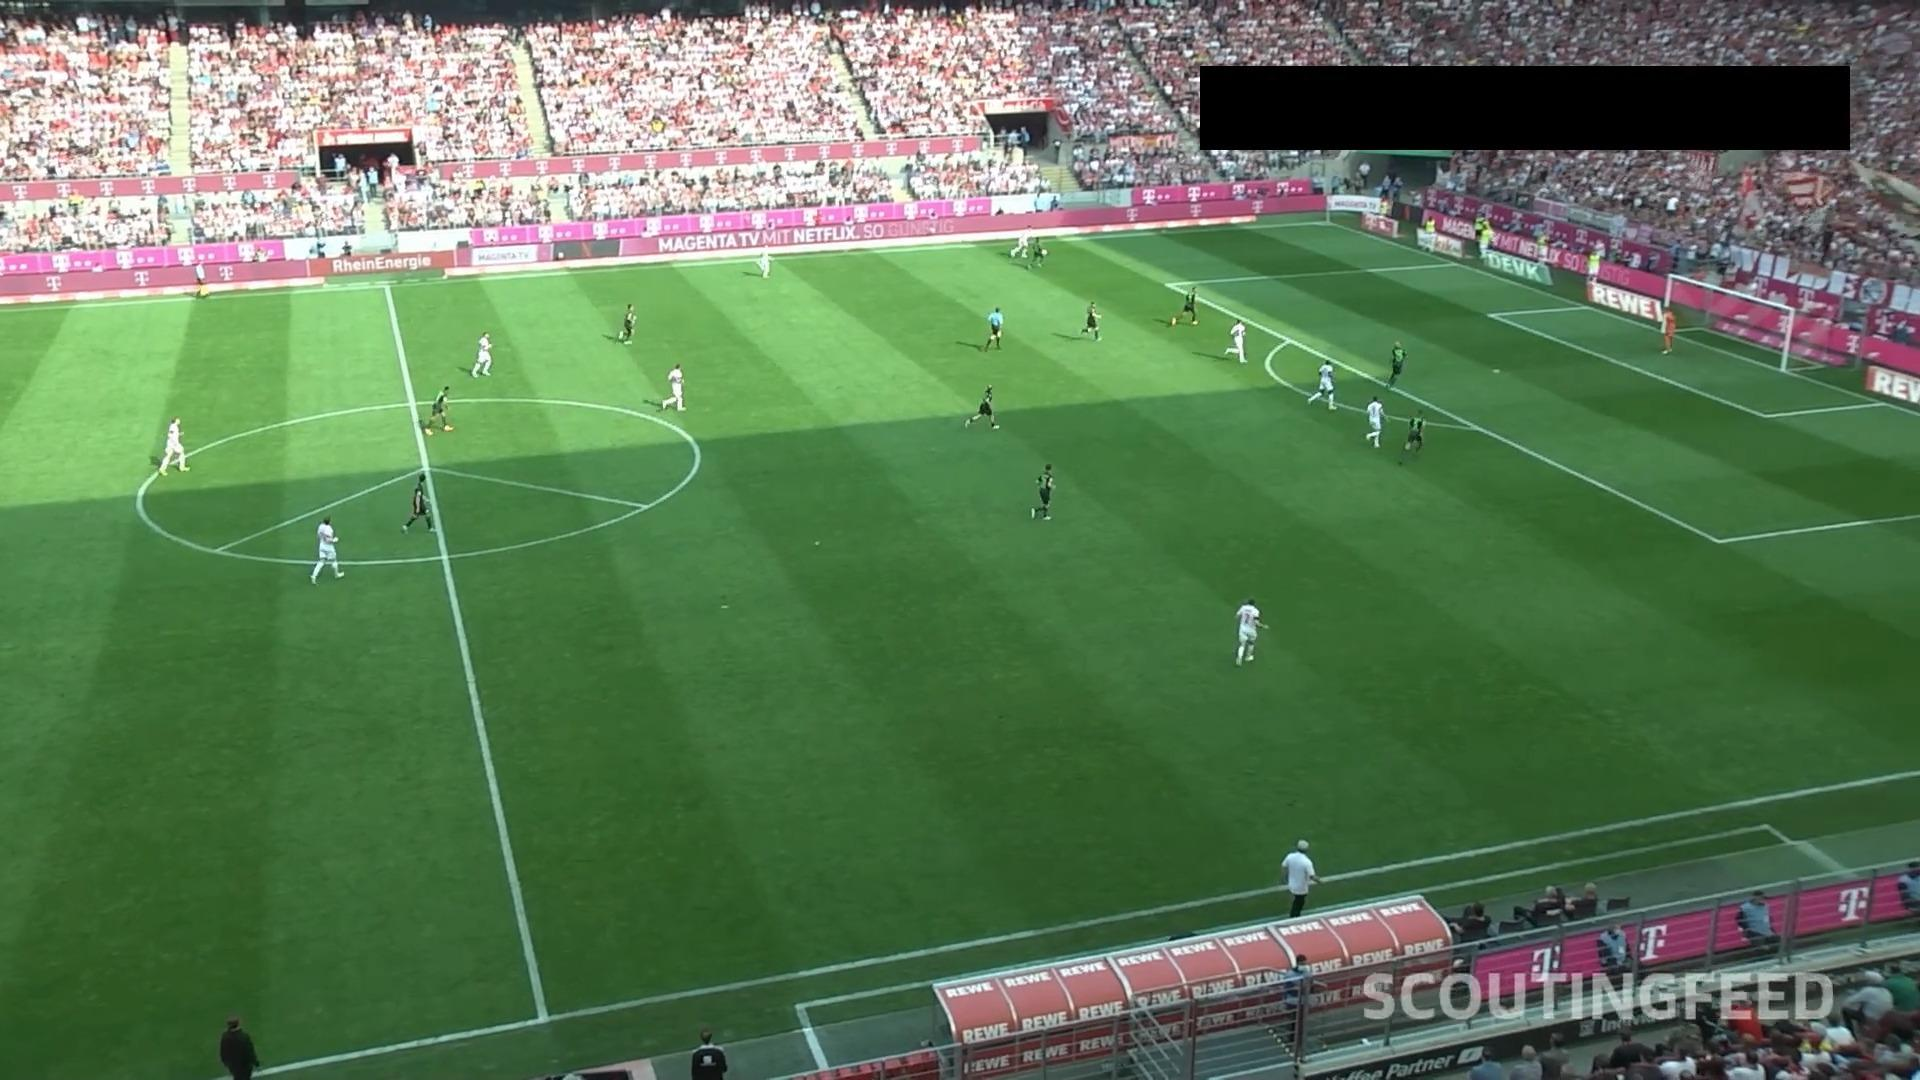ball: (1042, 248, 1048, 256)
